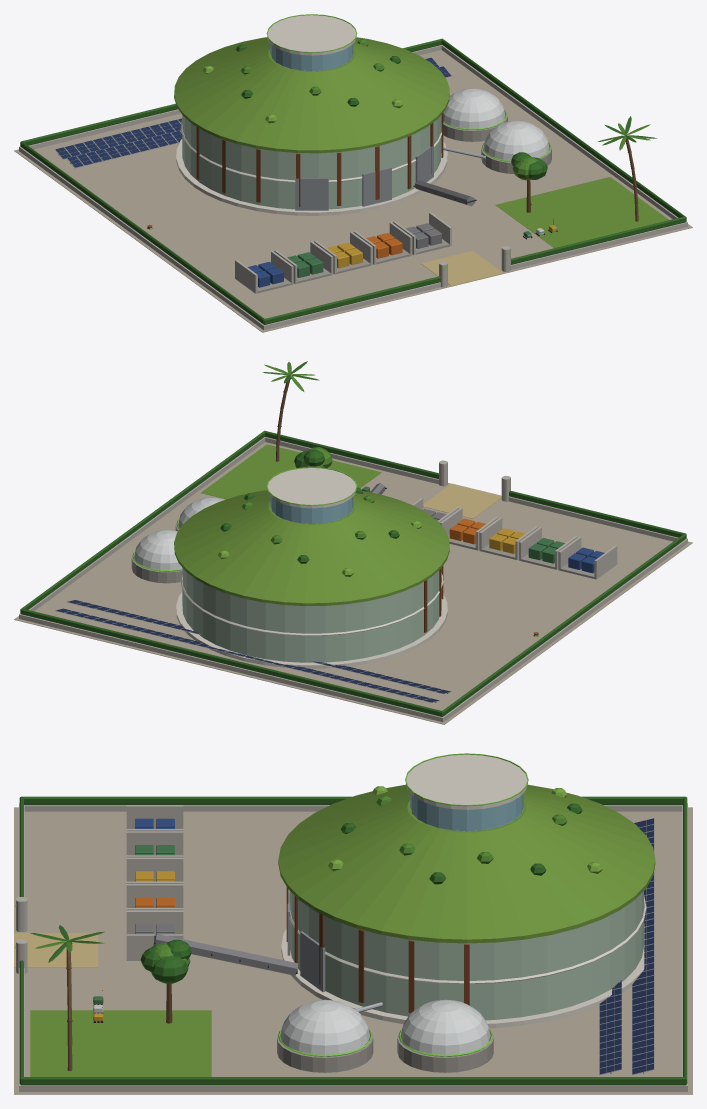
The model's file is waste.glb.
The picture shows the model from 3 angles, top to bottom: view 1: azimuth 30°, elevation 25°; view 2: azimuth 150°, elevation 25°; view 3: azimuth 270°, elevation 25°; orthographic projection. The views are drawn at different scales.
Parts seen in each view (by area): view 1: body, windows; view 2: body; view 3: body, windows.
Part boxes in pixels (box(x1,y1,x2,y2)): body: box(14, 15, 692, 332); windows: box(266, 14, 556, 269); body: box(14, 361, 692, 724); body: box(14, 754, 692, 1094); windows: box(15, 753, 528, 1056).
Bounding box in the file's own units: 47.9 × 13.68 × 47.9.
